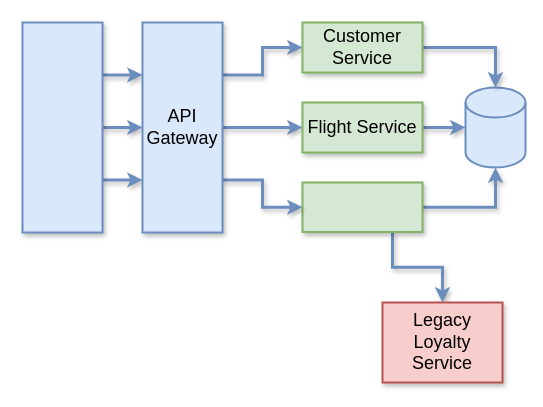
The diagram is 543 pixels wide and 407 high, and some of its shapes have lost their labels. Each missing label, with the centre of its shape:
"Booking Service" goes at [363,208].
"Web + App" goes at [63,128].
